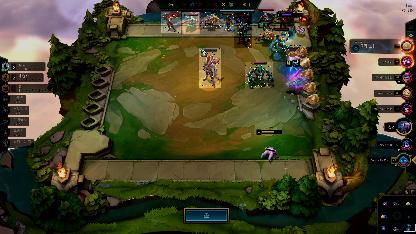1_malphite: (245, 62, 273, 88)
1_olaf: (182, 12, 200, 34)
1_qiyana: (258, 7, 276, 29)
1_senna: (161, 11, 181, 33)
1_seraphine: (254, 20, 276, 44), (200, 12, 220, 30)
1_sohm: (272, 28, 290, 56)
1_taliyah: (220, 12, 236, 32)
2_kaisa: (234, 12, 252, 48)
2_sett: (199, 48, 221, 88)
